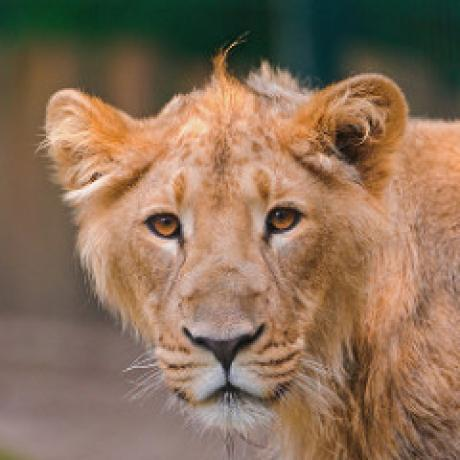Lion: (38, 43, 459, 460)
